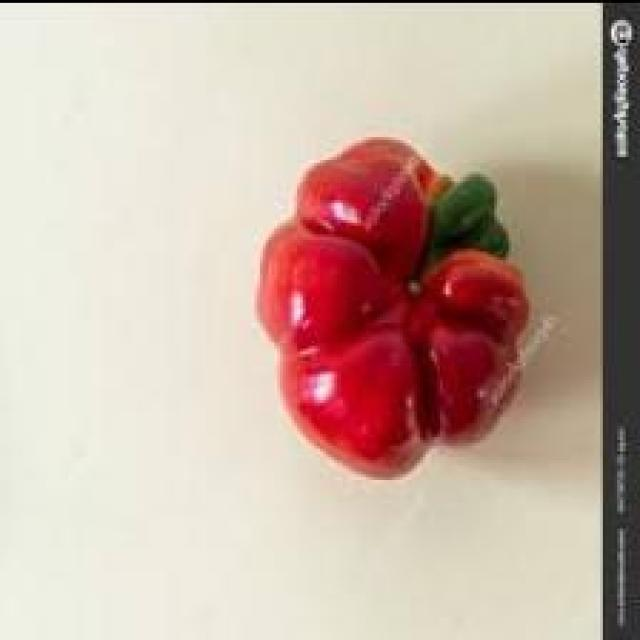Pepper: (254, 134, 531, 483)
